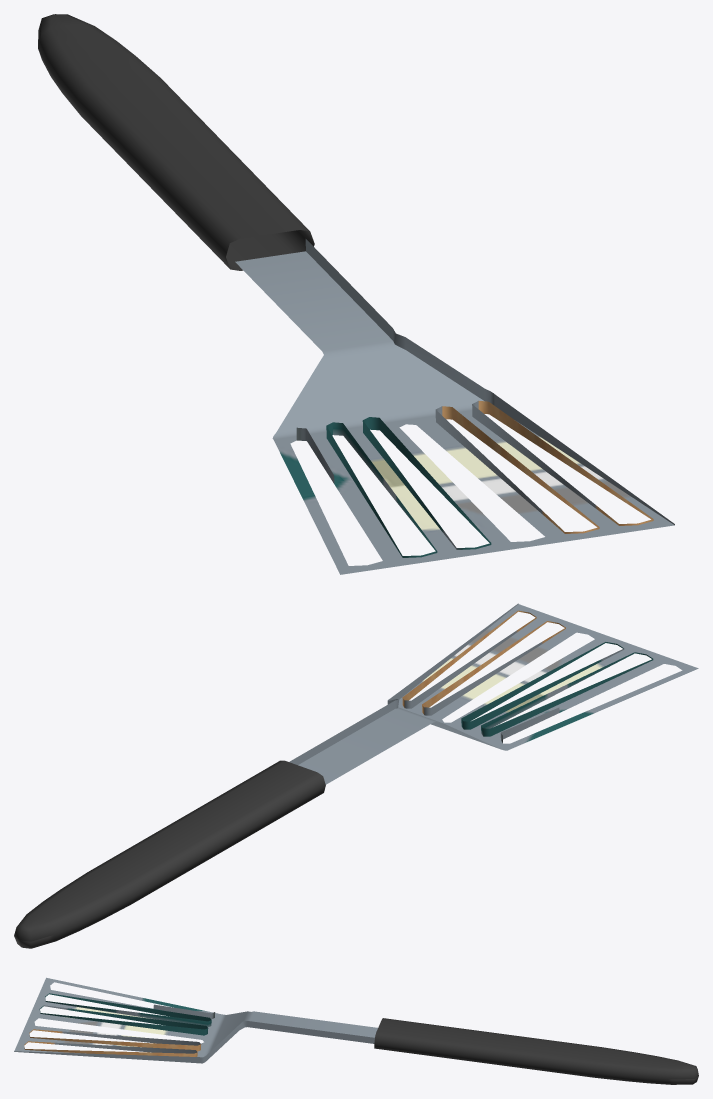
Rendered from KitchenSpatula.fbx.
The picture shows the model from 3 angles, top to bottom: view 1: azimuth 30°, elevation 25°; view 2: azimuth 150°, elevation 25°; view 3: azimuth 270°, elevation 25°; orthographic projection. The views are drawn at different scales.
Visible parts, largest first — view 1: SM_Spatula_low_Utensils_0.001; view 2: SM_Spatula_low_Utensils_0.001; view 3: SM_Spatula_low_Utensils_0.001.
Boxes of the visible parts, box(x1,y1,x2,y2) form: SM_Spatula_low_Utensils_0.001: box(38, 14, 674, 574); SM_Spatula_low_Utensils_0.001: box(14, 603, 698, 948); SM_Spatula_low_Utensils_0.001: box(14, 977, 698, 1084).
Size of the model in its own units: 913 by 161 by 2815.
